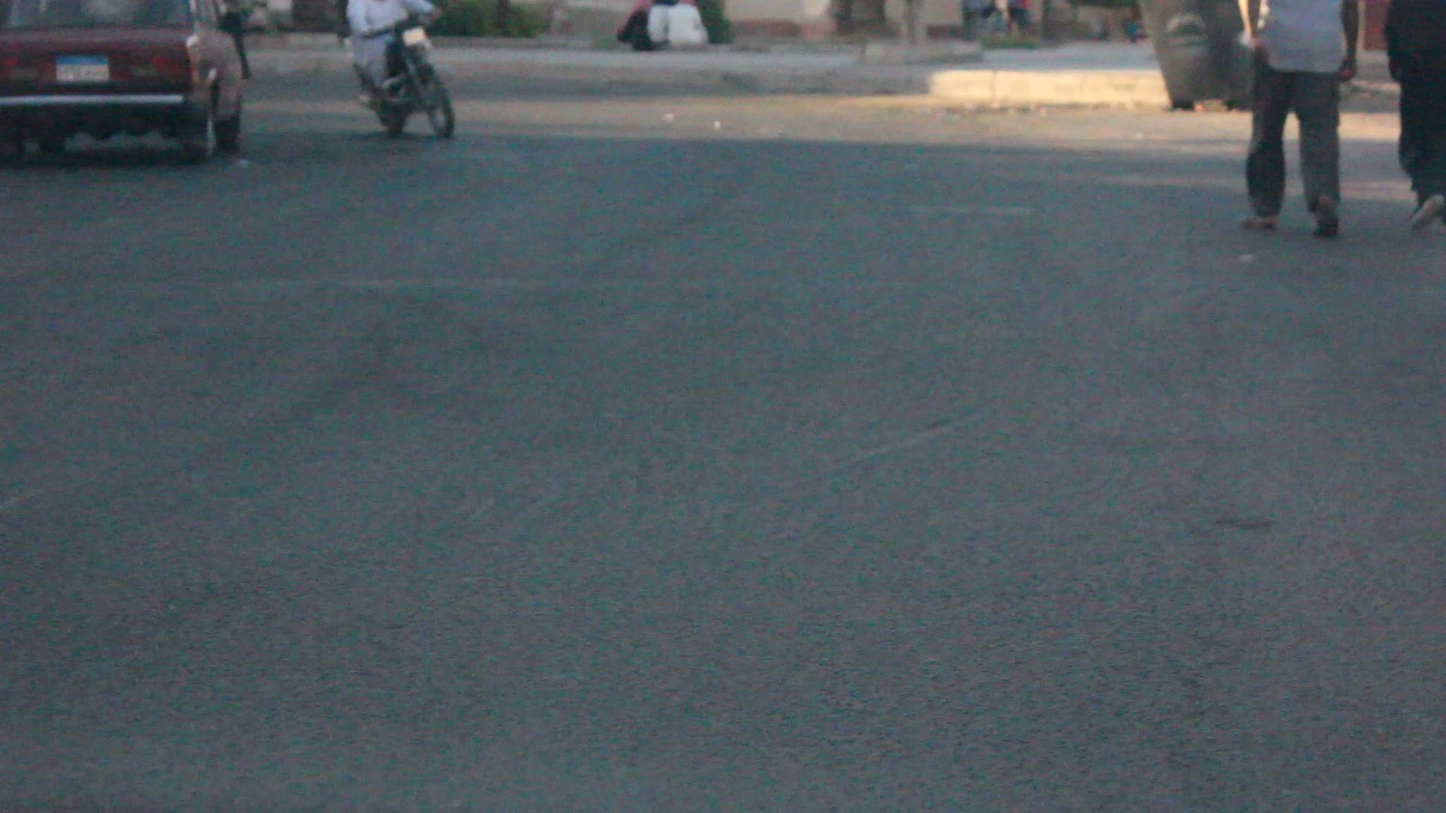Bump: (2, 260, 1446, 431)
